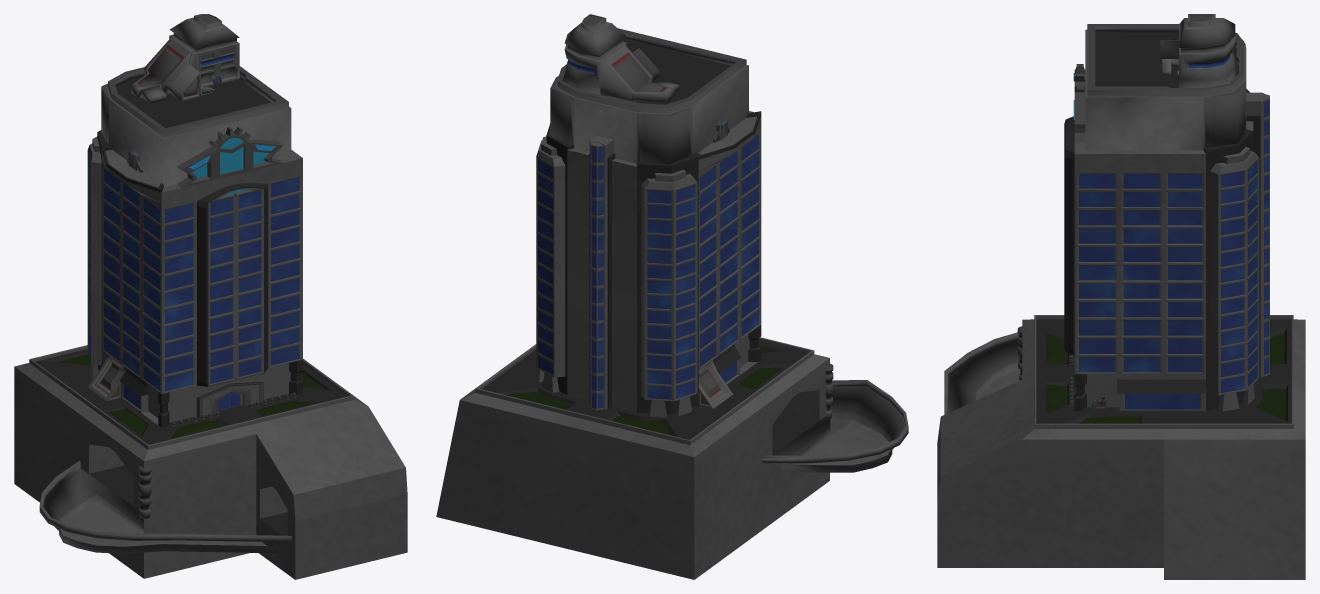
The model's file is futuristic_skyscraper.glb.
3 renders of one model, left to right at view 1: azimuth 30°, elevation 25°; view 2: azimuth 150°, elevation 25°; view 3: azimuth 270°, elevation 25°, orthographic. The views are drawn at different scales.
Visible parts, largest first — view 1: Object_10, Object_12, Object_7, Object_9, Object_8, Object_5, Object_4; view 2: Object_10, Object_12, Object_7, Object_9, Object_8, Object_5; view 3: Object_10, Object_12, Object_7, Object_9, Object_8, Object_5.
Part boxes in pixels (x1,y1,x2,y2): Object_10: (14, 14, 407, 579); Object_12: (88, 54, 299, 410); Object_7: (35, 76, 347, 535); Object_9: (43, 17, 296, 534); Object_8: (101, 15, 288, 511); Object_5: (58, 354, 324, 438); Object_4: (129, 137, 268, 195); Object_10: (436, 14, 908, 579); Object_12: (538, 59, 758, 408); Object_7: (482, 39, 832, 454); Object_9: (550, 18, 904, 463); Object_8: (550, 15, 833, 412); Object_5: (506, 347, 783, 435); Object_10: (937, 14, 1305, 579); Object_12: (1079, 55, 1269, 409); Object_7: (1018, 32, 1291, 423); Object_9: (947, 15, 1246, 412); Object_8: (1017, 15, 1245, 408); Object_5: (1046, 333, 1286, 423).
Size of the model in its own units: 5.85 by 7.91 by 5.2.
9 materials, 3 textured.
